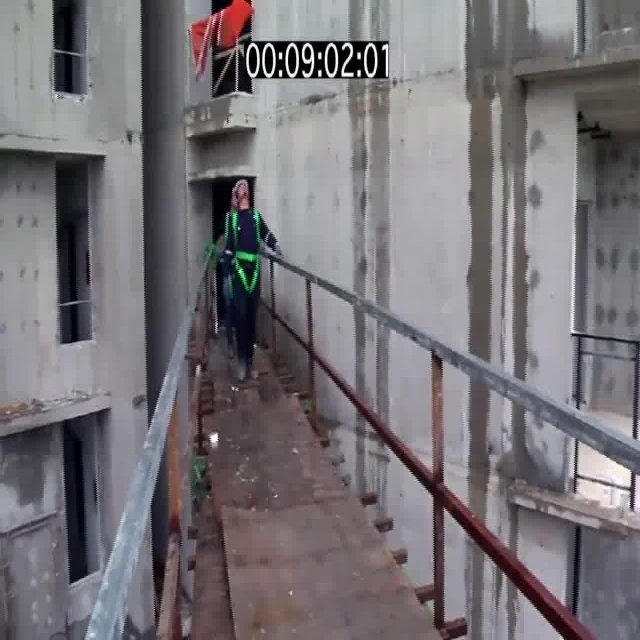Arnes_seguridad: (231, 209, 262, 288)
